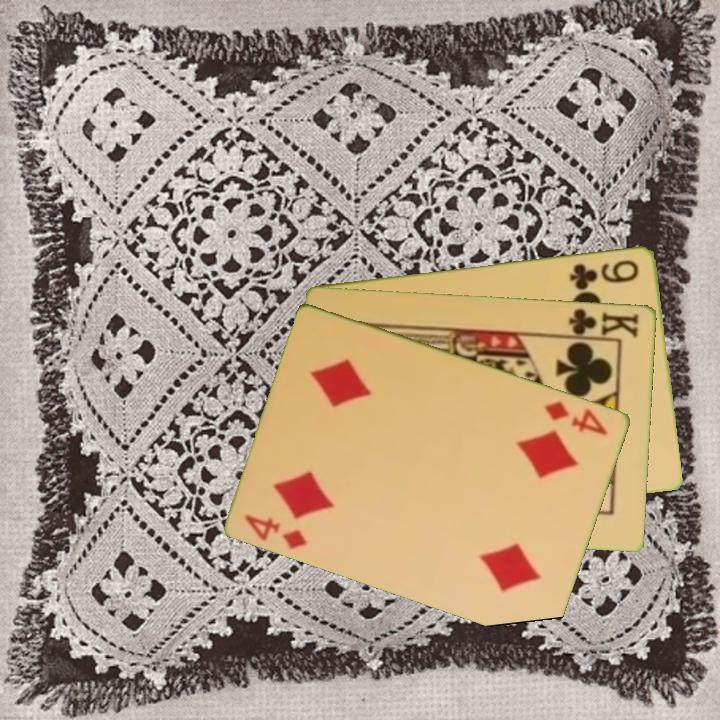4d: (242, 510, 311, 553), (541, 397, 612, 438)
9c: (566, 256, 642, 291)
Kc: (561, 304, 642, 341)
